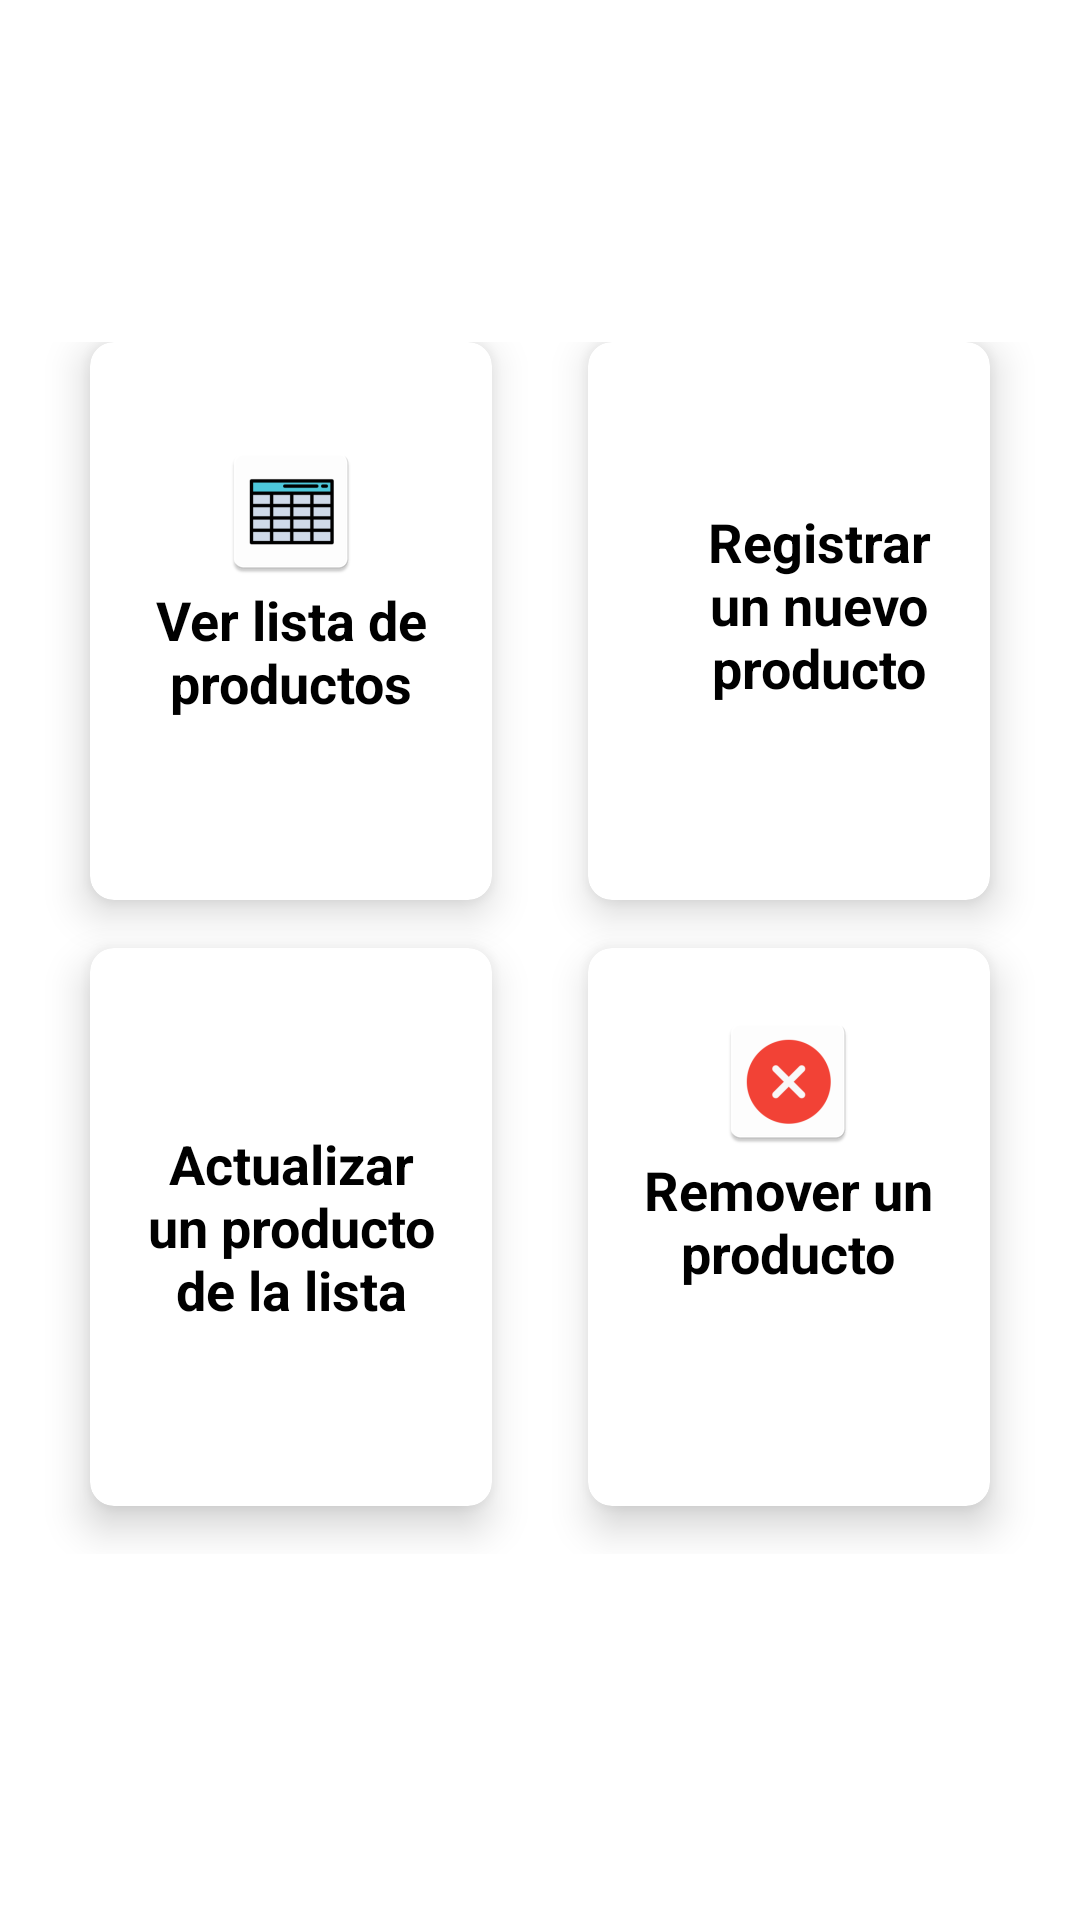

Where to tap for icons on this 1080px×1920px app screen, as (x=x, y=y):
eliminar: (x=788, y=1086)
tabla: (x=291, y=516)
